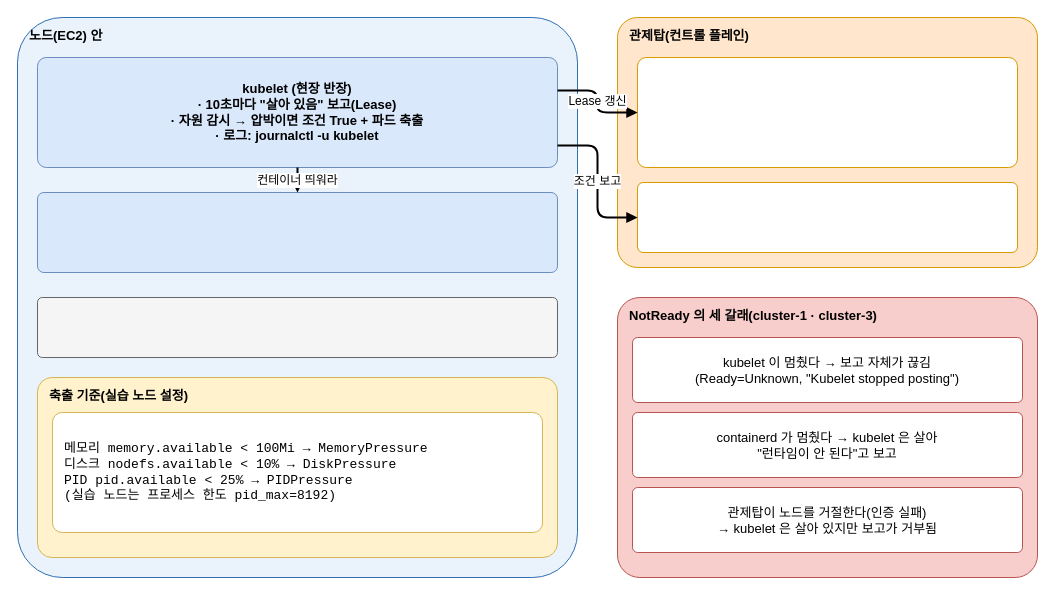
Some shapes in this 1055 by 595 pixel diagram are drawn without their labels. Each missing label, with the centre of its shape:
containerd (작업자) · 컨테이너 실행 · 로그: journalctl -u containerd: the point at 297,232
systemd — 두 서비스를 켜고 끈다 systemctl status kubelet containerd: the point at 297,327
노드 상태(Conditions) Ready · MemoryPressure · DiskPressure · PIDPressure: the point at 827,217
노드 컨트롤러 "40초 동안 보고가 없으면 Ready=Unknown(NotReady)" "5분 지나면 파드를 다른 노드로": the point at 827,112
